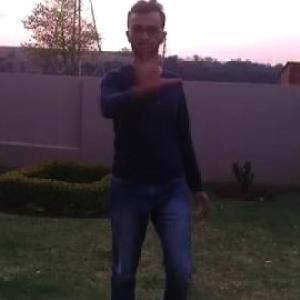follow_hand: (130, 44, 184, 96)
